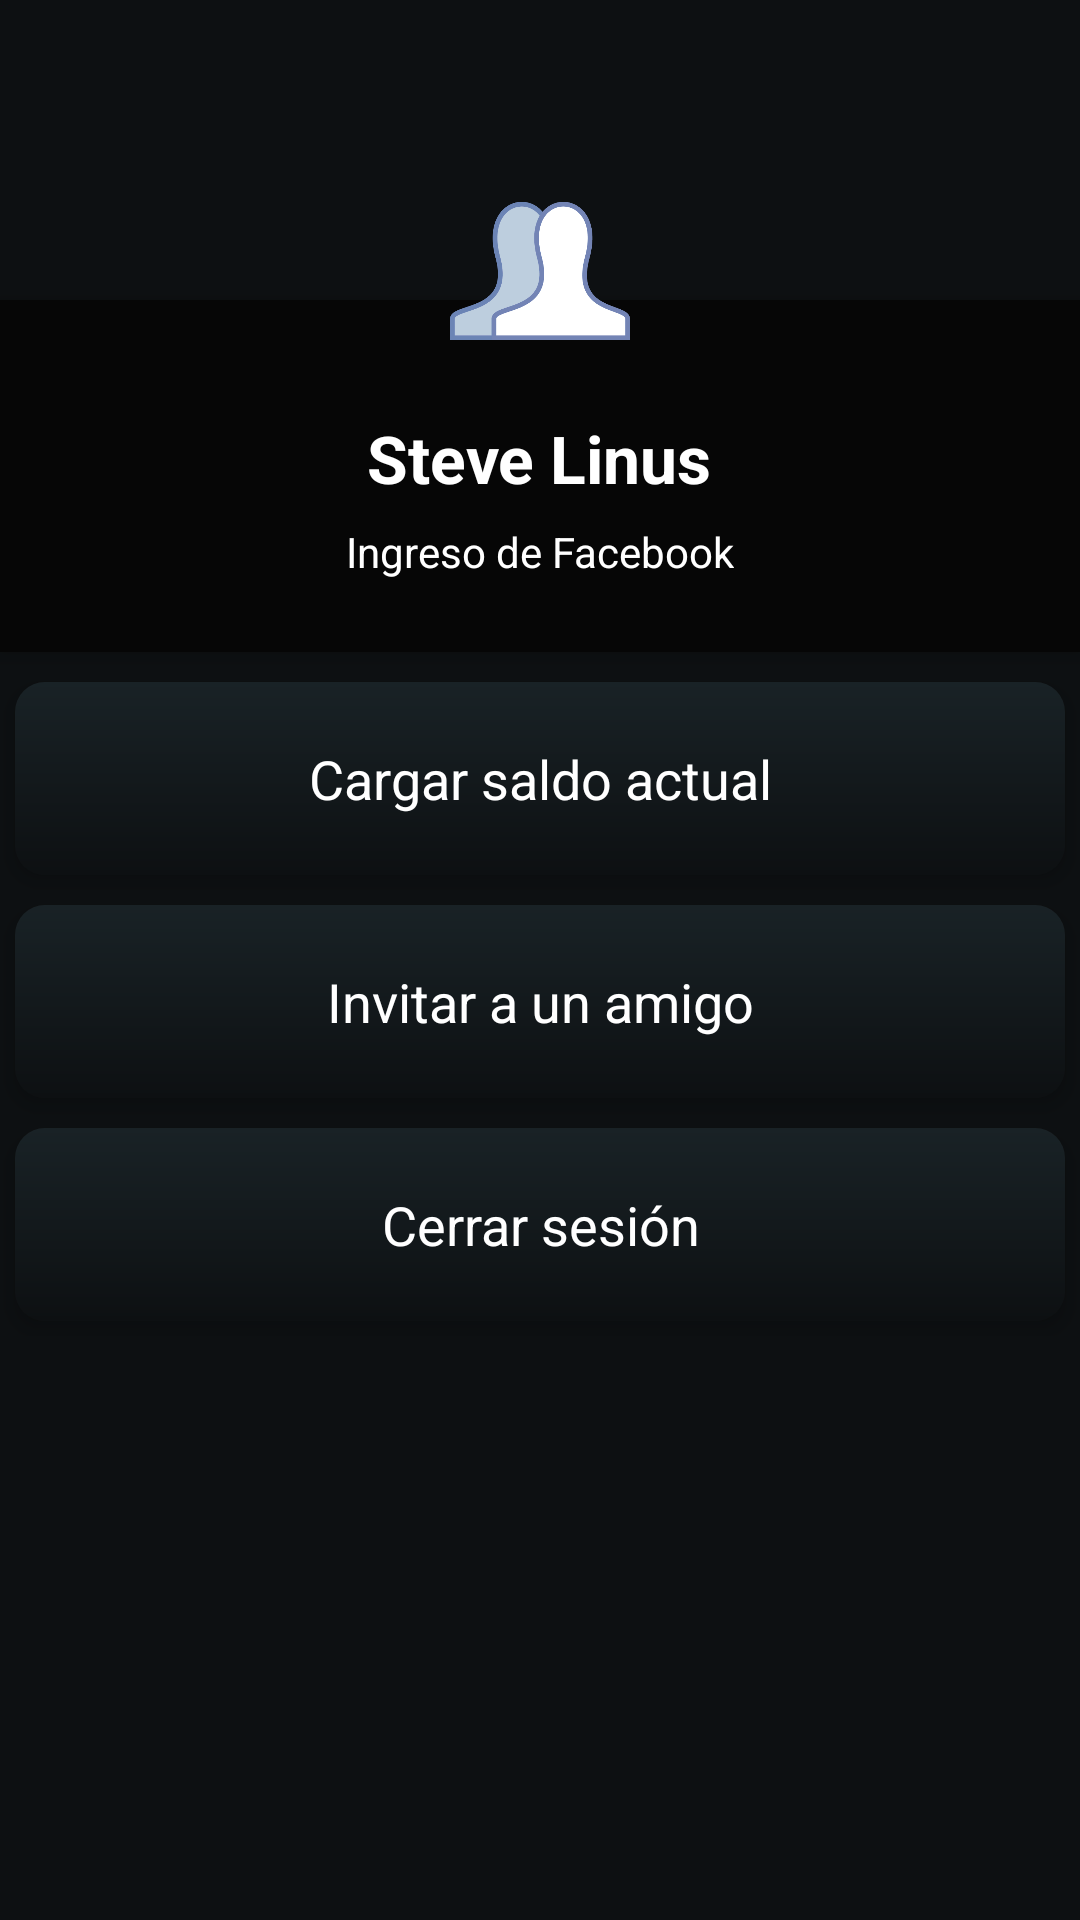

Named icons in this screenshot (1080w x 1920h) and their centers, (x,y):
profile: (540,271)
